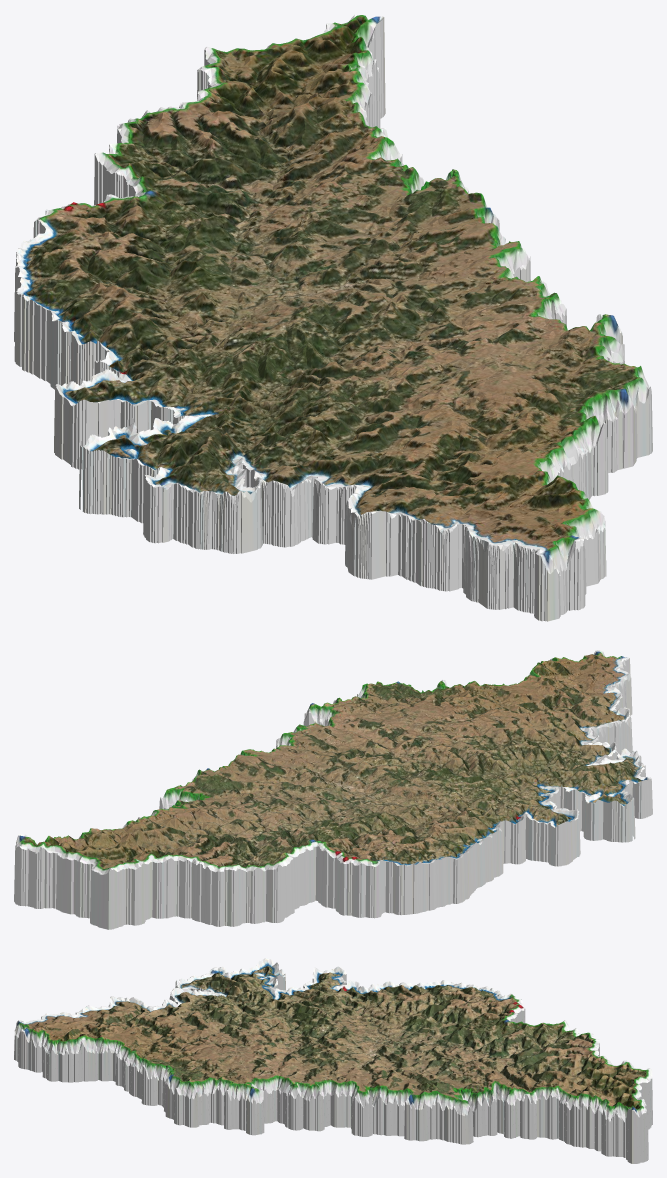
The picture shows the model from 3 angles, top to bottom: view 1: azimuth 30°, elevation 25°; view 2: azimuth 150°, elevation 25°; view 3: azimuth 270°, elevation 25°; orthographic projection. The views are drawn at different scales.
Bounding box in the file's own units: 1 × 0.1469 × 1.58.
Materials: 1 (1 with a texture image).
